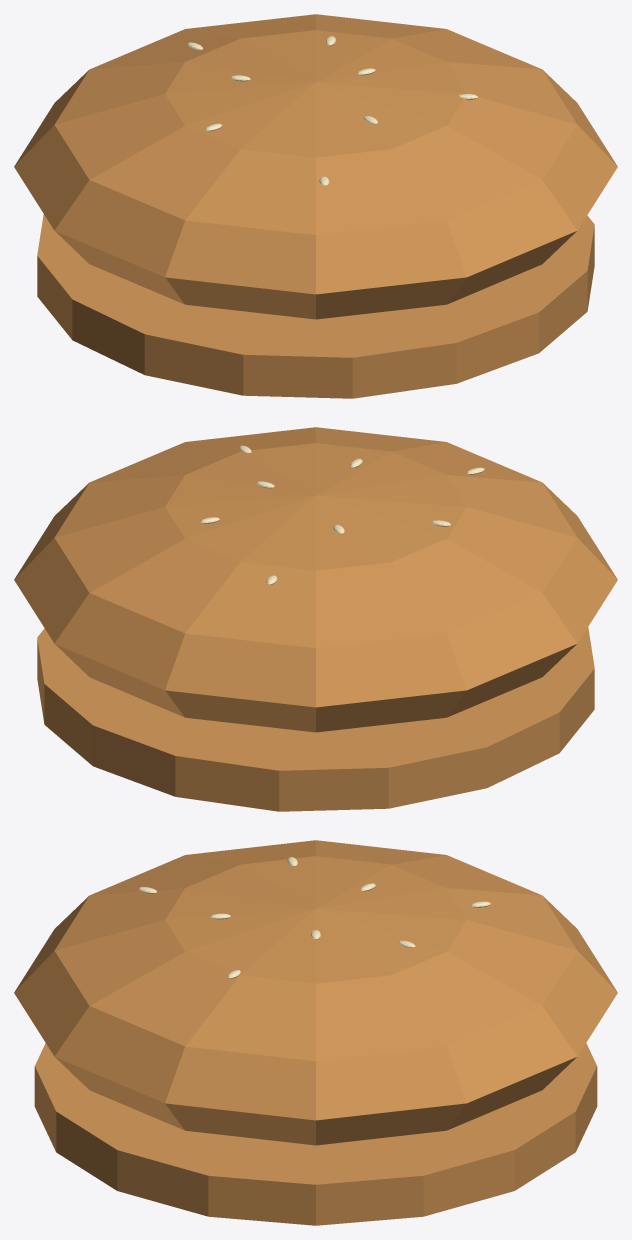
Rendered from Hamburger_Bun_Toasted.fbx.
3 views of the same model, one above another, from view 1: azimuth 30°, elevation 25°; view 2: azimuth 150°, elevation 25°; view 3: azimuth 270°, elevation 25° (orthographic).
Parts seen in each view (by area): view 1: GPV2_Bread_Toasted_Upper_Bread, GPV2_Bread_Toasted_Lower_Bread, GPV2_Bread_Toasted; view 2: GPV2_Bread_Toasted_Upper_Bread, GPV2_Bread_Toasted_Lower_Bread, GPV2_Bread_Toasted; view 3: GPV2_Bread_Toasted_Upper_Bread, GPV2_Bread_Toasted_Lower_Bread, GPV2_Bread_Toasted.
Part boxes in pixels (x1,y1,x2,y2): GPV2_Bread_Toasted_Upper_Bread: (14,14,617,319); GPV2_Bread_Toasted_Lower_Bread: (37,214,594,398); GPV2_Bread_Toasted: (187,36,477,185); GPV2_Bread_Toasted_Upper_Bread: (14,427,617,732); GPV2_Bread_Toasted_Lower_Bread: (37,627,594,811); GPV2_Bread_Toasted: (200,445,484,584); GPV2_Bread_Toasted_Upper_Bread: (14,840,617,1145); GPV2_Bread_Toasted_Lower_Bread: (34,1043,597,1225); GPV2_Bread_Toasted: (138,857,490,978).
Bounding box in the file's own units: 0.29 × 0.1054 × 0.29.
